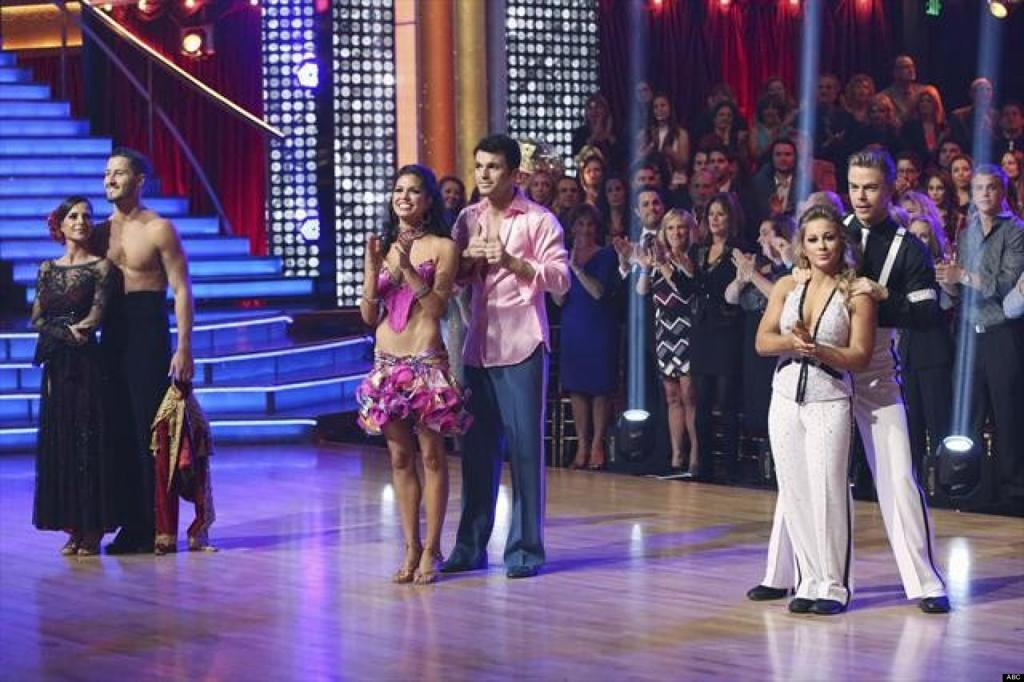face: (848, 168, 884, 221), (804, 217, 840, 270), (473, 147, 508, 199), (390, 173, 426, 219), (103, 155, 136, 203), (63, 203, 93, 242), (971, 174, 1000, 212), (756, 222, 779, 257), (638, 191, 661, 225), (896, 201, 918, 234), (663, 216, 686, 246), (937, 142, 961, 168), (574, 215, 595, 243), (691, 178, 712, 206), (708, 202, 725, 234), (773, 144, 793, 171), (815, 77, 835, 104), (951, 159, 970, 187), (895, 160, 914, 187), (442, 180, 460, 208), (708, 152, 726, 180), (635, 171, 655, 196), (559, 179, 577, 206), (532, 177, 550, 203), (605, 182, 623, 208), (1001, 107, 1020, 131), (928, 177, 944, 205), (586, 102, 604, 126), (1001, 154, 1018, 179), (585, 161, 602, 186), (767, 81, 784, 105), (762, 101, 779, 124), (695, 153, 710, 178), (975, 82, 991, 104), (854, 80, 870, 102), (918, 94, 933, 115), (716, 108, 731, 129), (654, 100, 669, 120), (634, 85, 651, 102), (899, 61, 914, 80), (869, 106, 884, 125)
